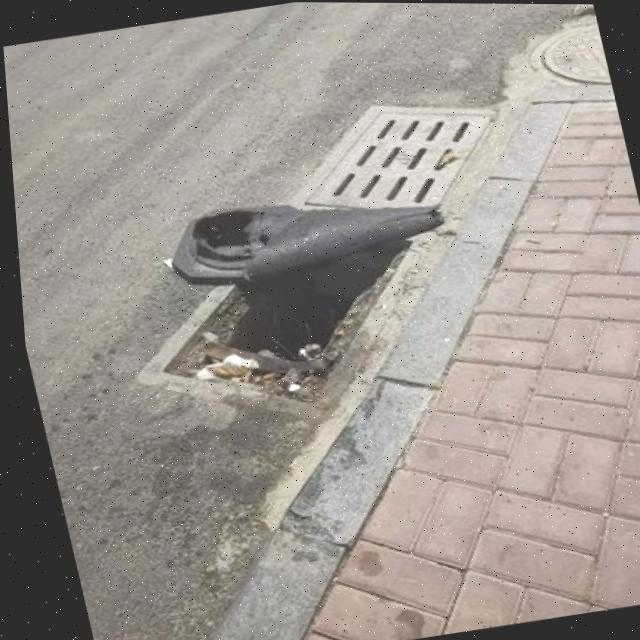manhole: (134, 219, 456, 417)
